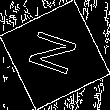N_E: (25, 28, 85, 82)
